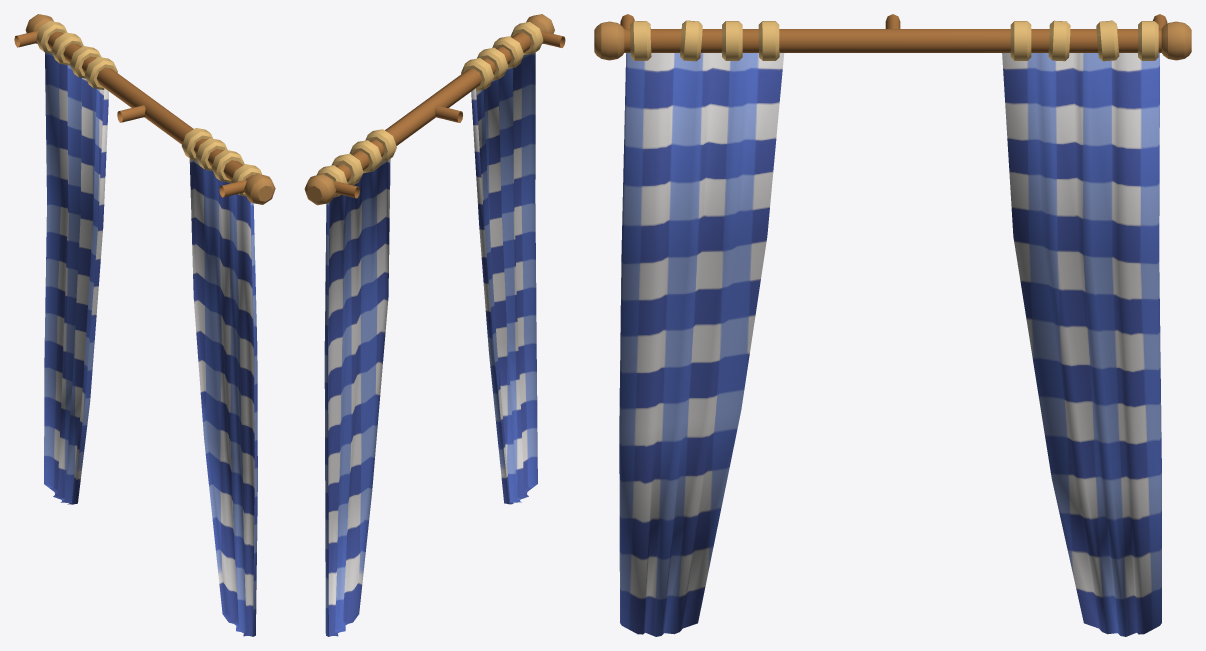
The model's file is Curtains_Long_1_C_A.glb.
The picture shows the model from 3 angles, left to right: view 1: azimuth 30°, elevation 25°; view 2: azimuth 150°, elevation 25°; view 3: azimuth 270°, elevation 25°; orthographic projection. The views are drawn at different scales.
Visible parts, largest first — view 1: Curtains_Long_1_C_A; view 2: Curtains_Long_1_C_A; view 3: Curtains_Long_1_C_A.
Boxes of the visible parts, x1,y1,x2,y2 form: Curtains_Long_1_C_A: (14,14,275,636); Curtains_Long_1_C_A: (304,14,565,636); Curtains_Long_1_C_A: (594,14,1191,636).
Size of the model in its own units: 0.2268 by 2.28 by 2.02.
Materials: 2 (2 with a texture image).
